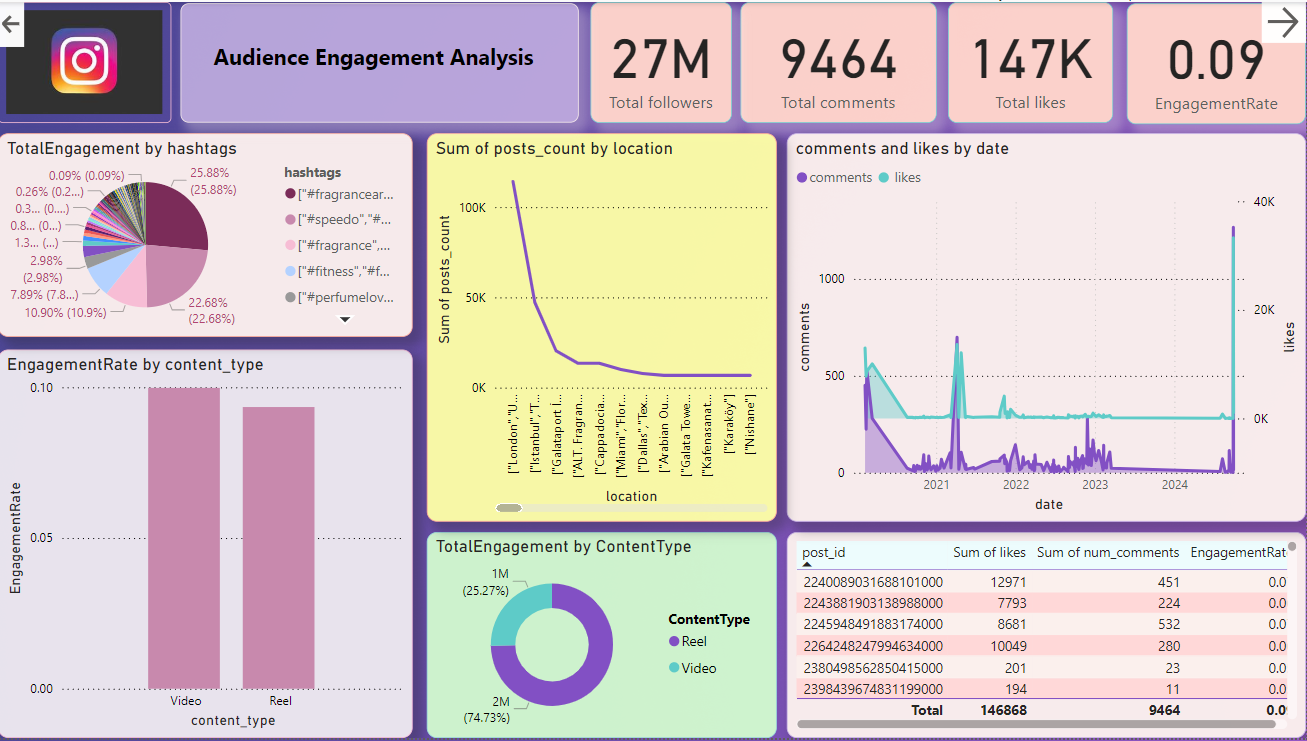

Layout of this report page (visuals, bound fields, positions):
{"tool":"powerbi","page":{"name":"Page 2","canvas":[1280,720],"ordinal":1},"visuals":[{"type":"card","fields":{"Values":["Sum(Instagram - Posts.num_comments)"]},"box":[726.1,0,191.8,118.3],"z":0},{"type":"card","fields":{"Values":["Sum(Instagram - Posts.followers)"]},"box":[579.1,0,138.2,118.3],"z":1000},{"type":"card","fields":{"Values":["Sum(Instagram - Posts.likes)"]},"box":[929.1,0,161.9,118.3],"z":2000},{"type":"card","fields":{"Values":["Instagram - Posts.EngagementRate"]},"box":[1104.7,1.2,175.6,118.3],"z":3000},{"type":"tableEx","fields":{"Values":["Instagram - Posts.post_id","Sum(Instagram - Posts.likes)","Sum(Instagram - Posts.num_comments)","Instagram - Posts.EngagementRate"]},"box":[772.1,518.1,508.1,201.8],"z":4000},{"type":"columnChart","fields":{"Y":["Instagram - Posts.EngagementRate"],"Category":["Instagram - Posts.content_type"]},"box":[0,340,406,379.8],"z":5000},{"type":"pieChart","fields":{"Category":["Instagram - Posts.hashtags"],"Y":["Instagram - Posts.TotalEngagement"]},"box":[0,128.4,406,199.3],"z":6000},{"type":"donutChart","fields":{"Category":["ContentTypeTable.ContentType"],"Y":["Instagram - Posts.TotalEngagement"]},"box":[419.4,518.5,342.4,201.8],"z":7000},{"type":"areaChart","fields":{"Category":["Instagram - Posts.date.Variation.Date Hierarchy.Year"],"Y":["Sum(Instagram - Posts.num_comments)"],"Y2":["Sum(Instagram - Posts.likes)"]},"box":[772.1,128.3,508.1,379.8],"z":8000},{"type":"lineChart","fields":{"Y":["Sum(Instagram - Posts.posts_count)"],"Category":["Instagram - Posts.location"]},"box":[419.7,128.3,342.5,379.8],"z":9000},{"type":"textbox","box":[178.1,1.2,389.8,117.1],"z":10000},{"type":"image","box":[0,0,169.4,118.3],"z":11000},{"type":"actionButton","box":[0,0,26,43.9],"z":12000},{"type":"actionButton","box":[1236.7,0,43,40.3],"z":13000}]}

Visuals, with their boxes in screenshot pixels (x1, y1, x2, y2), scaled from the page's 1280x720 canvas onto the 1307x741 screenshot:
card - Sum(Instagram - Posts.num_comments): rect(741, 0, 937, 122)
card - Sum(Instagram - Posts.followers): rect(591, 0, 732, 122)
card - Sum(Instagram - Posts.likes): rect(949, 0, 1114, 122)
card - Instagram - Posts.EngagementRate: rect(1128, 1, 1306, 123)
tableEx - Instagram - Posts.post_id x Sum(Instagram - Posts.likes): rect(788, 533, 1306, 740)
columnChart - Instagram - Posts.EngagementRate x Instagram - Posts.content_type: rect(0, 350, 415, 740)
pieChart - Instagram - Posts.hashtags x Instagram - Posts.TotalEngagement: rect(0, 132, 415, 337)
donutChart - ContentTypeTable.ContentType x Instagram - Posts.TotalEngagement: rect(428, 534, 778, 740)
areaChart - Instagram - Posts.date.Variation.Date Hierarchy.Year x Sum(Instagram - Posts.num_comments): rect(788, 132, 1306, 523)
lineChart - Sum(Instagram - Posts.posts_count) x Instagram - Posts.location: rect(429, 132, 778, 523)
textbox: rect(182, 1, 580, 122)
image: rect(0, 0, 173, 122)
actionButton: rect(0, 0, 27, 45)
actionButton: rect(1263, 0, 1306, 41)
